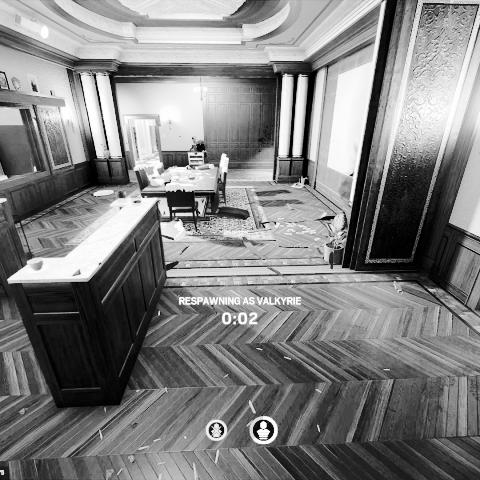Character: (189, 135, 208, 155)
Head: (192, 135, 198, 142)
